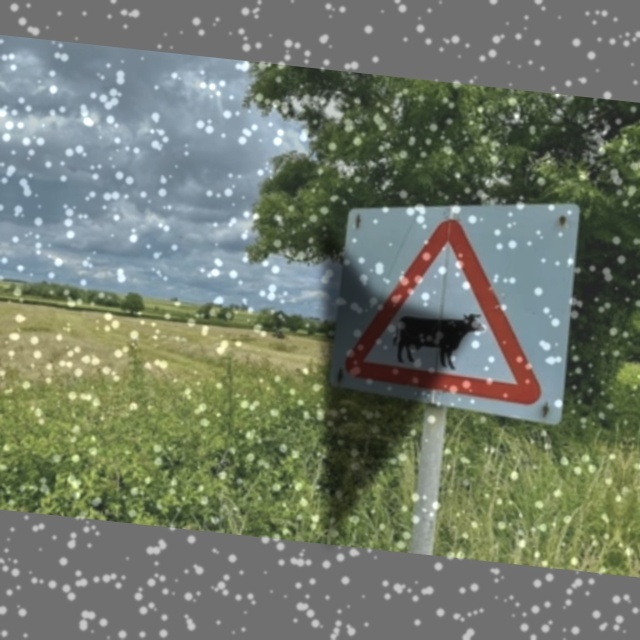Cattle: (335, 207, 564, 418)
